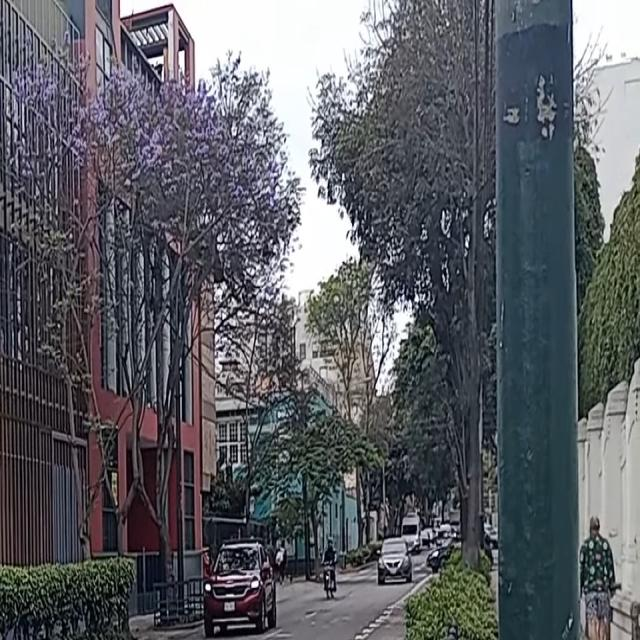car: (204, 538, 278, 636), (377, 539, 413, 581), (398, 515, 423, 552)
motorcycle: (321, 550, 338, 599)
